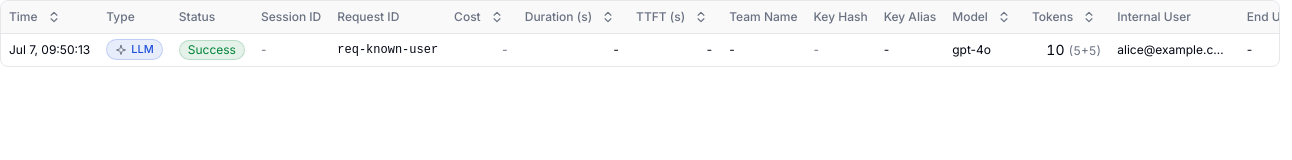
Test: Internal User column › shows the user's email instead of the raw id, with both in the tooltip
Expected: the text "106514937785257944828" is not shown
Hover over the text "alice@example.com" at (1174, 50), box x1=1117 y1=42 x2=1231 y2=58
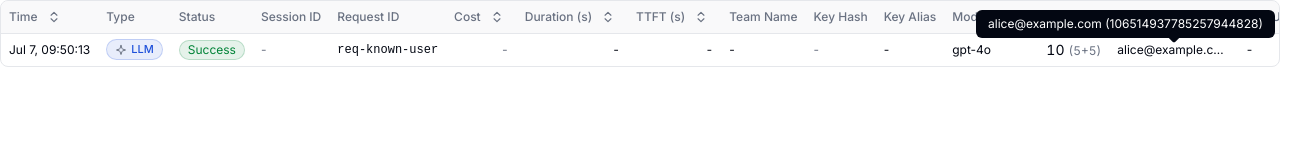
Expected: the text "alice@example.com (106514937785257944828)" is shown, x1=976 y1=10 x2=1275 y2=38
